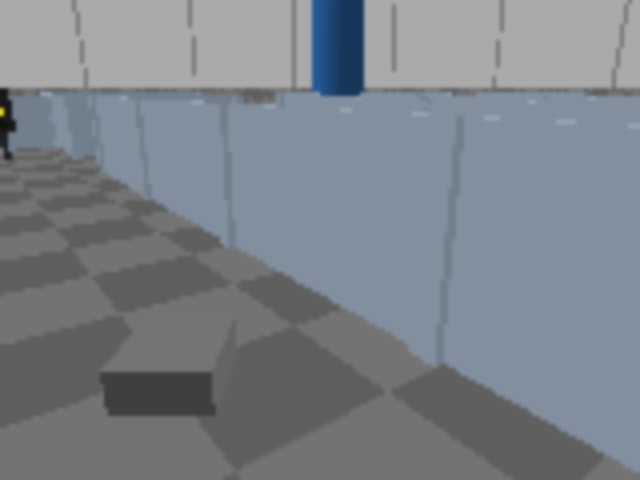obstacle: (100, 315, 238, 418)
traffic_light: (0, 85, 22, 161)
